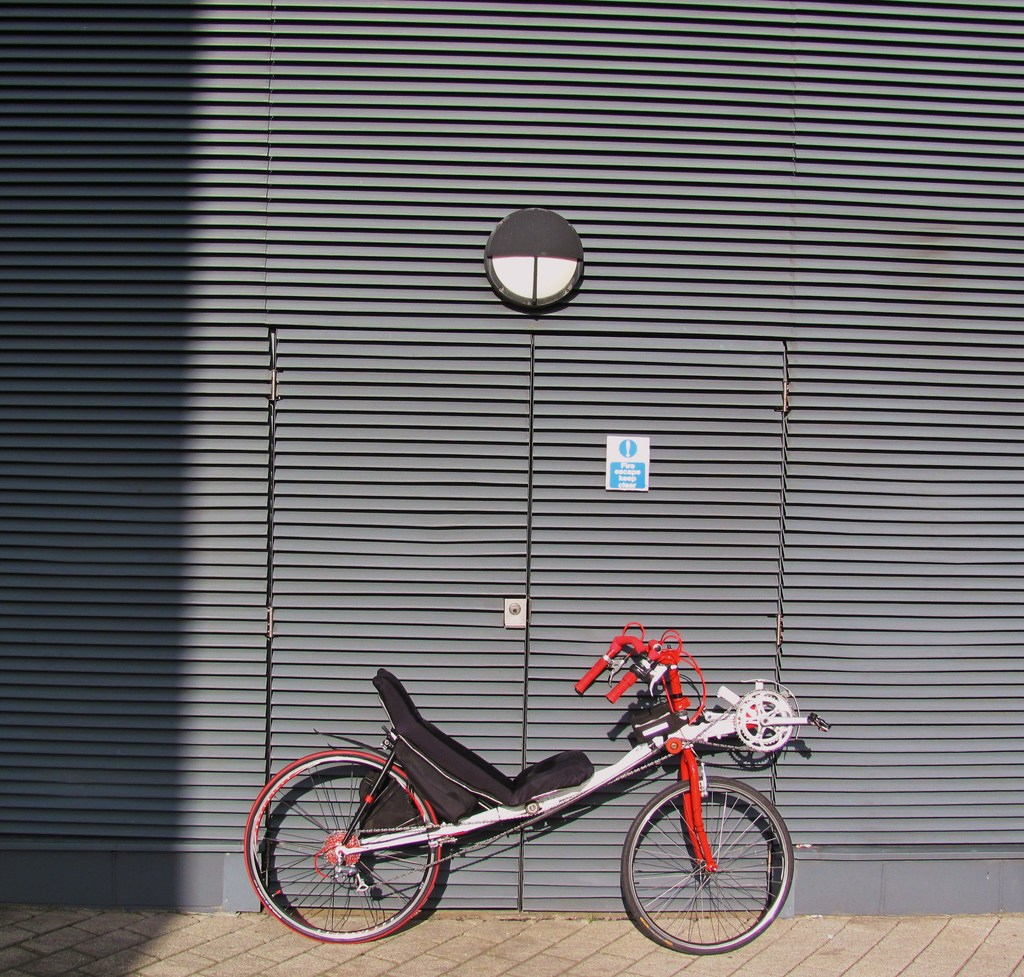Bike: (252, 652, 804, 949)
